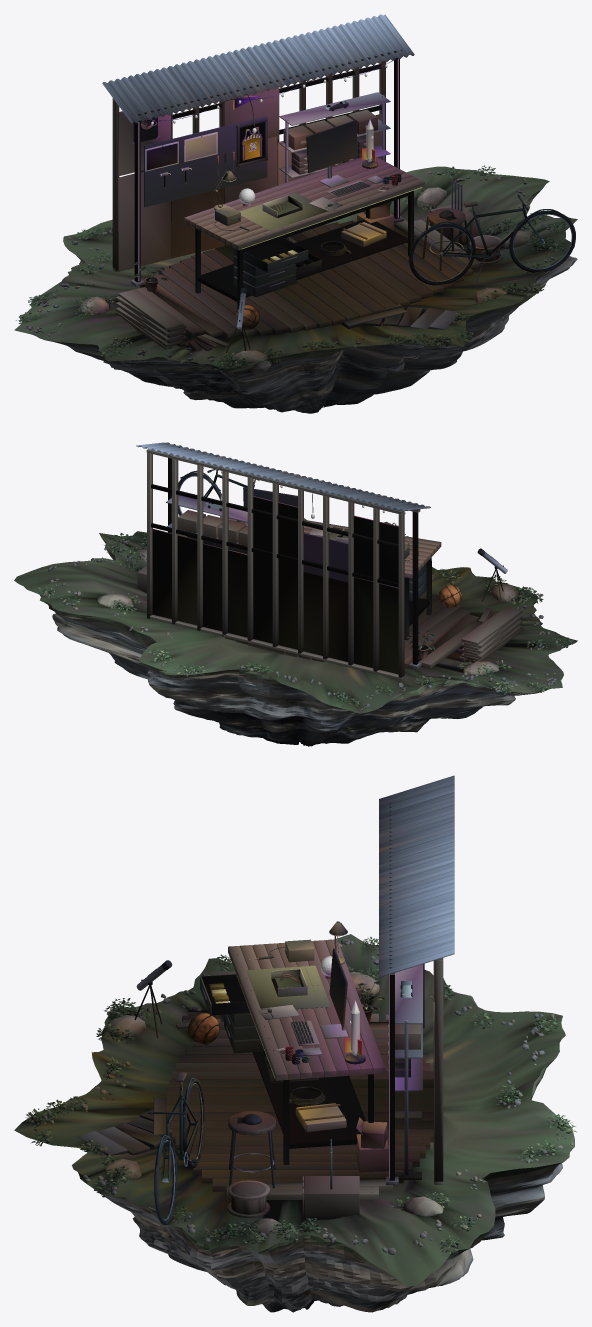
The model's file is flight-projects-5234ad61.glb.
The picture shows the model from 3 angles, top to bottom: view 1: azimuth 30°, elevation 25°; view 2: azimuth 150°, elevation 25°; view 3: azimuth 270°, elevation 25°; orthographic projection. The views are drawn at different scales.
Parts seen in each view (by area): view 1: Projects island · flight.001; view 2: Projects island · flight.001; view 3: Projects island · flight.001.
Part boxes in pixels (<box>): Projects island · flight.001: <box>14,14,577,413</box>; Projects island · flight.001: <box>14,442,577,746</box>; Projects island · flight.001: <box>14,775,577,1312</box>.
Size of the model in its own units: 12.7 by 7.16 by 8.69.
